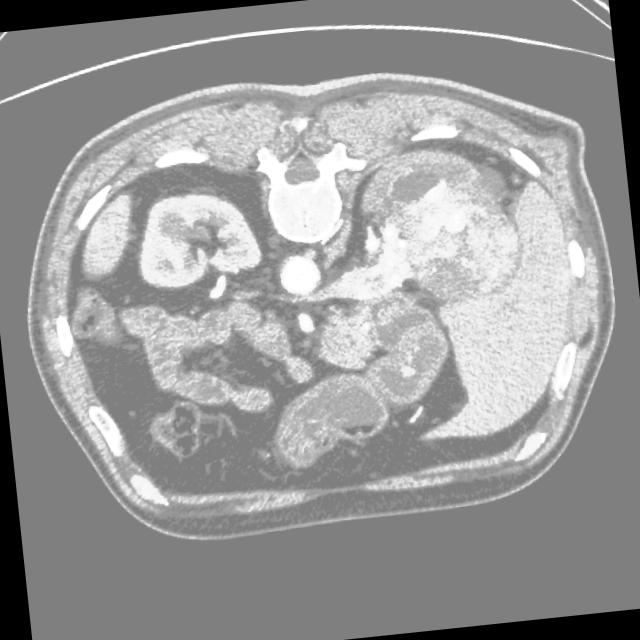TUMOR: (37, 131, 509, 350)
